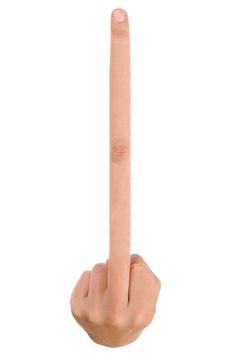finger: (108, 7, 129, 304), (131, 266, 159, 310), (85, 259, 110, 295), (69, 266, 91, 298)
